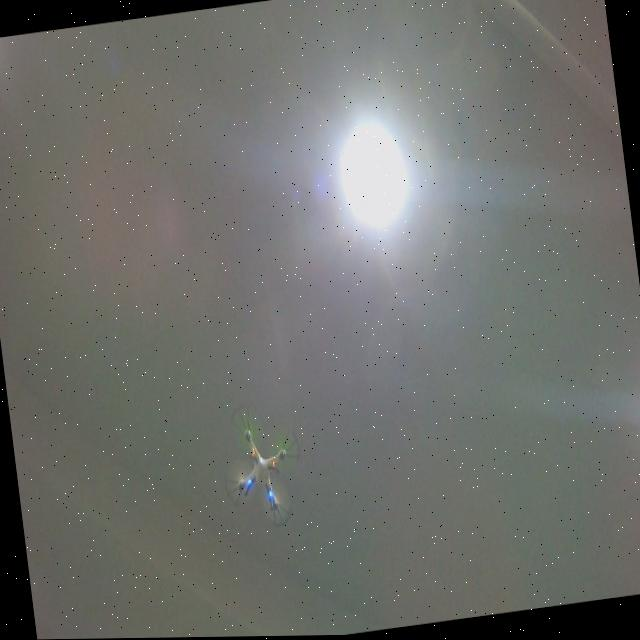drone: (212, 396, 310, 537)
